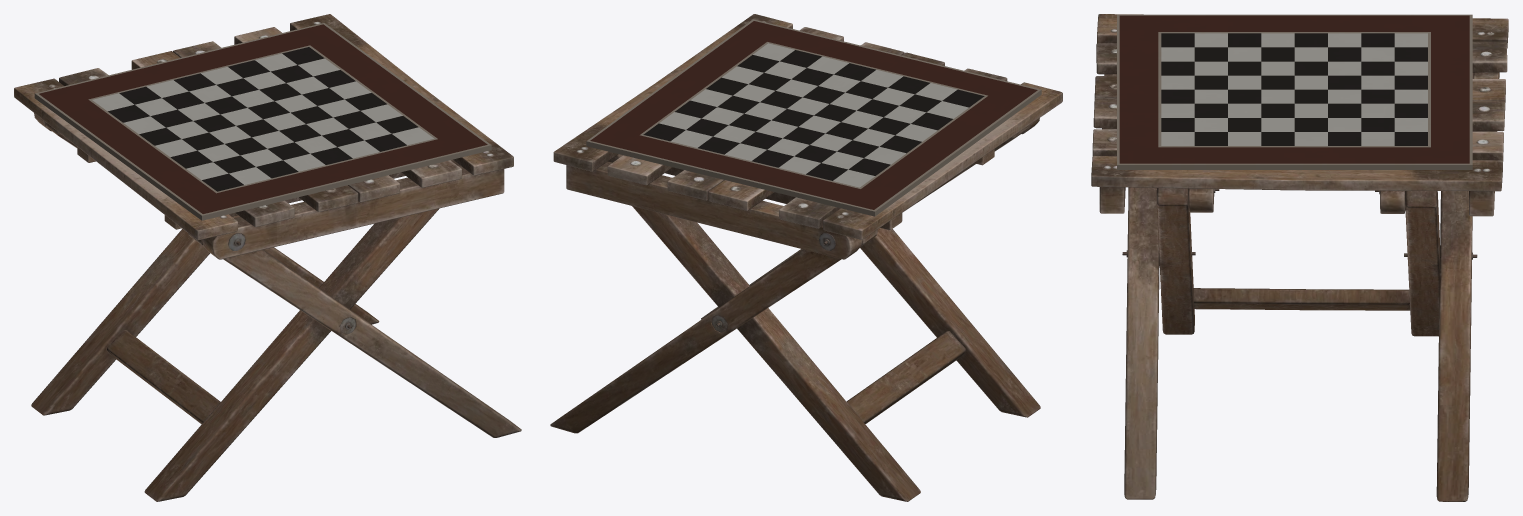
The model's file is chess-table.glb.
3 renders of one model, left to right at view 1: azimuth 30°, elevation 25°; view 2: azimuth 150°, elevation 25°; view 3: azimuth 270°, elevation 25°, orthographic. The views are drawn at different scales.
Visible parts, largest first — view 1: pedestal, board; view 2: pedestal, board; view 3: board, pedestal.
Boxes of the visible parts, <box> form: pedestal: <box>14,14,521,501</box>; board: <box>34,23,491,220</box>; pedestal: <box>550,14,1062,501</box>; board: <box>586,19,1041,216</box>; board: <box>1117,14,1472,169</box>; pedestal: <box>1091,14,1508,501</box>.
Bounding box in the file's own units: 0.7404 × 0.6009 × 0.7155.
Materials: 2 (2 with a texture image).
